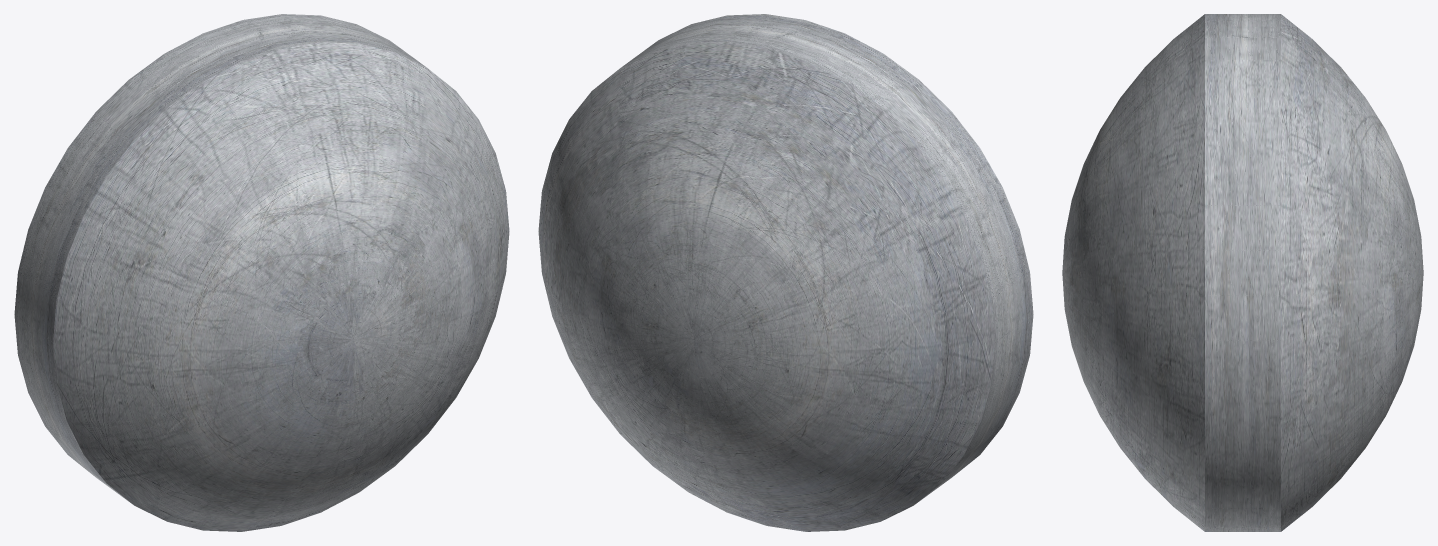
Rendered from CPClamp2.gltf.
3 renders of one model, left to right at view 1: azimuth 30°, elevation 25°; view 2: azimuth 150°, elevation 25°; view 3: azimuth 270°, elevation 25°, orthographic.
Parts seen in each view (by area): view 1: CPClamp2; view 2: CPClamp2; view 3: CPClamp2.
Part boxes in pixels (x1,y1,x2,y2): CPClamp2: (14,14,509,531); CPClamp2: (538,14,1033,531); CPClamp2: (1062,14,1423,531).
Size of the model in its own units: 0.00721 by 0.00721 by 0.00501.
1 material, 1 textured.
